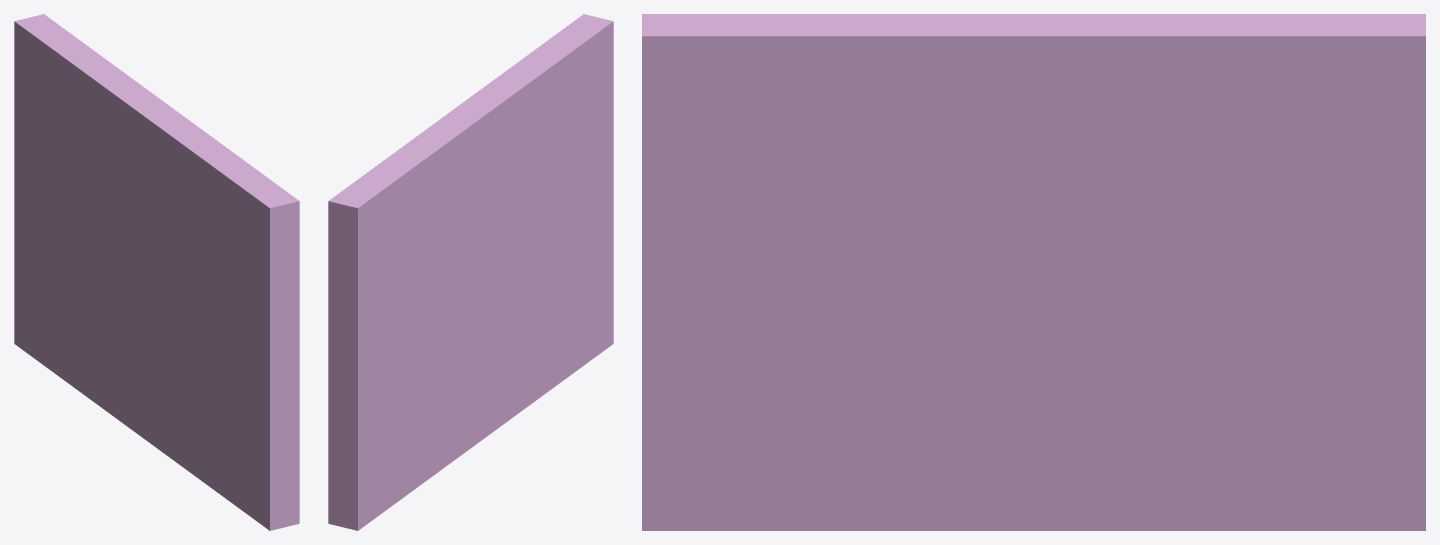
File: Wall_L_6.fbx
3 views of the same model, side by side, from view 1: azimuth 30°, elevation 25°; view 2: azimuth 150°, elevation 25°; view 3: azimuth 270°, elevation 25° (orthographic). The views are drawn at different scales.
Parts seen in each view (by area): view 1: Wall L 6; view 2: Wall L 6; view 3: Wall L 6.
Part boxes in pixels (box(x1,y1,x2,y2)): Wall L 6: box(14, 14, 299, 530); Wall L 6: box(328, 14, 613, 530); Wall L 6: box(642, 14, 1425, 530).
Bounding box in the file's own units: 93.6 × 972 × 1395.
